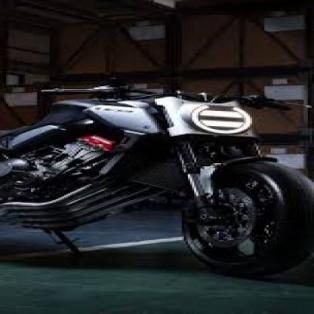Motocicleta: (6, 74, 312, 276)
